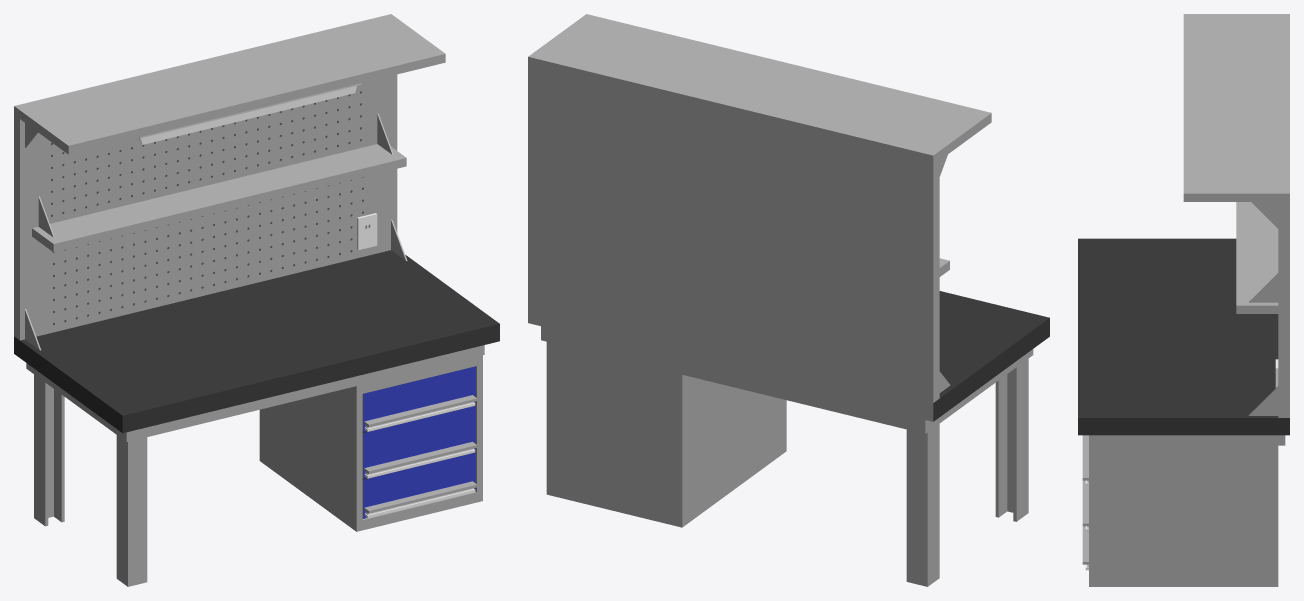
File: garage_table.fbx
3 views of the same model, side by side, from view 1: azimuth 30°, elevation 25°; view 2: azimuth 150°, elevation 25°; view 3: azimuth 270°, elevation 25° (orthographic). The views are drawn at different scales.
Visible parts, largest first — view 1: garage_table; view 2: garage_table; view 3: garage_table.
Part boxes in pixels (bbox=[...]): garage_table: bbox=[14, 14, 499, 586]; garage_table: bbox=[528, 14, 1049, 586]; garage_table: bbox=[1078, 14, 1289, 586].
Bounding box in the file's own units: 2.1 × 2.18 × 1.05.
Materials: 1 (1 with a texture image).
